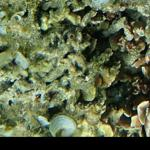dead: (5, 4, 145, 135)
